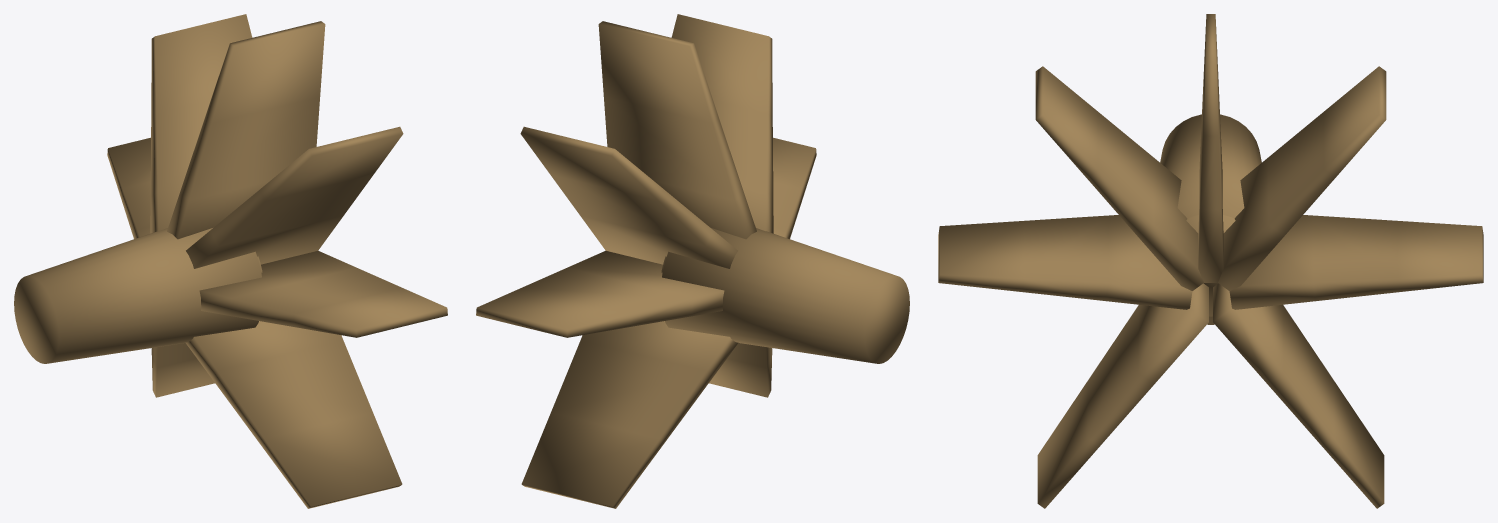
Rendered from RU_SSBN_DeltaIII_PROPULSOR_01.fbx.
The picture shows the model from 3 angles, left to right: view 1: azimuth 30°, elevation 25°; view 2: azimuth 150°, elevation 25°; view 3: azimuth 270°, elevation 25°; orthographic projection. The views are drawn at different scales.
Parts seen in each view (by area): view 1: RU_SSBN_DeltaIII_PROPULSOR_01; view 2: RU_SSBN_DeltaIII_PROPULSOR_01; view 3: RU_SSBN_DeltaIII_PROPULSOR_01.
Boxes of the visible parts, x1,y1,x2,y2 form: RU_SSBN_DeltaIII_PROPULSOR_01: (14,14,447,508); RU_SSBN_DeltaIII_PROPULSOR_01: (476,14,909,508); RU_SSBN_DeltaIII_PROPULSOR_01: (938,14,1483,508).
Size of the model in its own units: 2.2 by 3.32 by 3.
